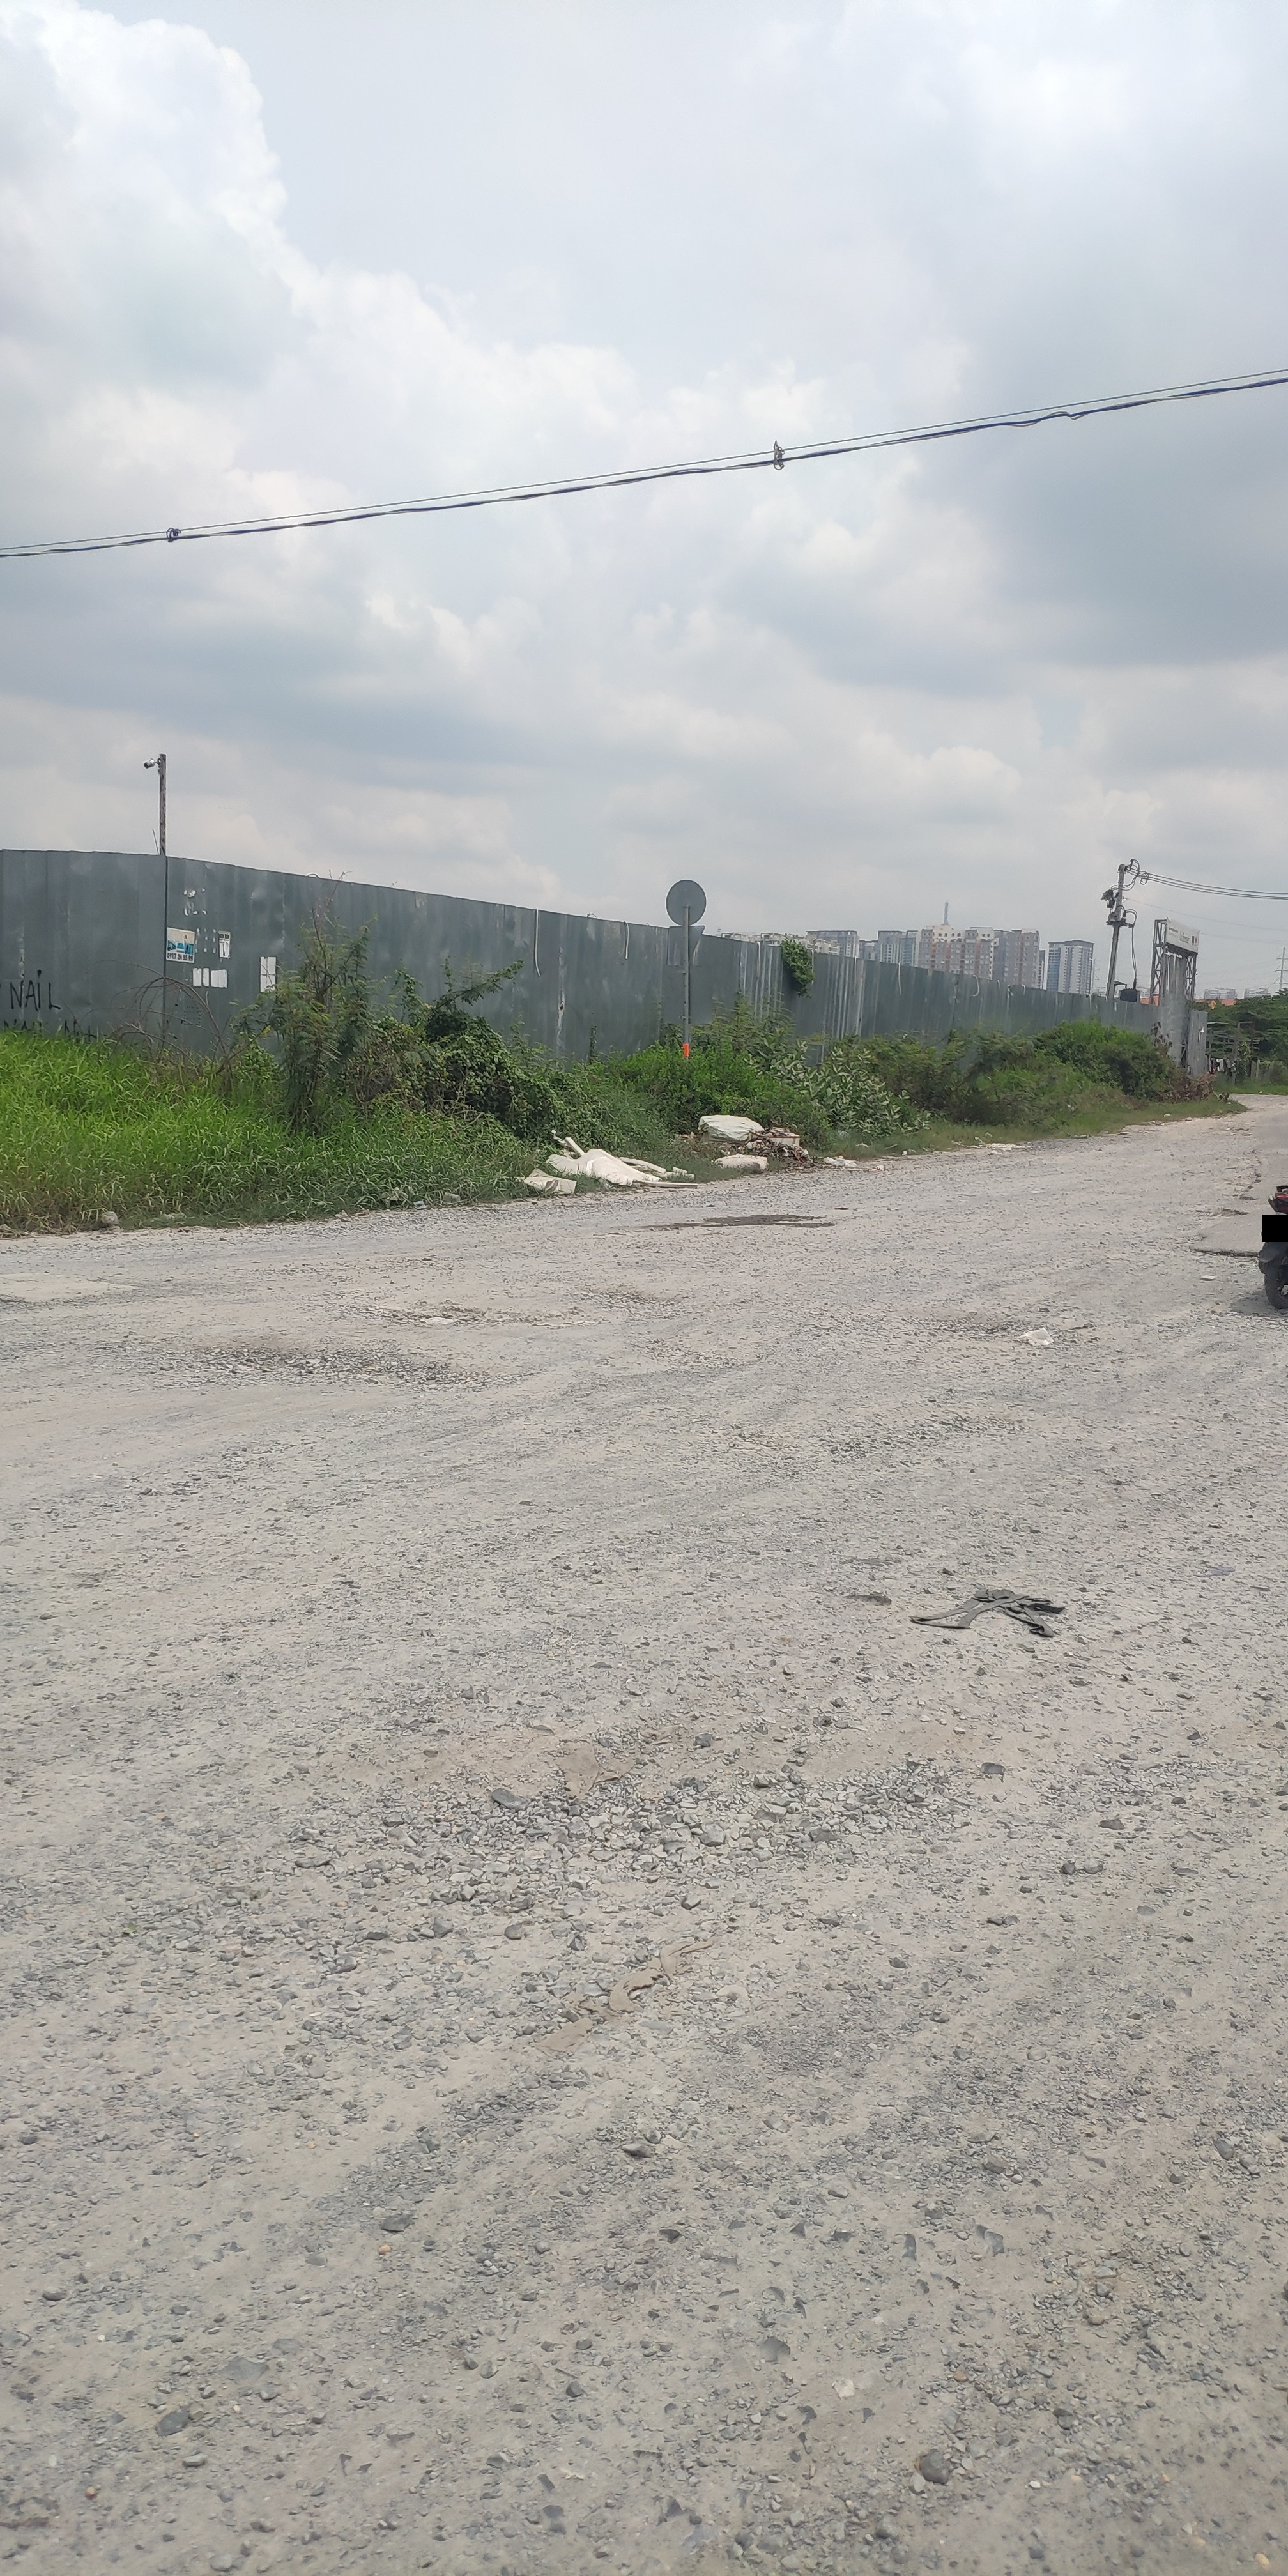hole: (371, 1700, 961, 1932), (138, 1337, 501, 1395), (315, 1288, 582, 1327), (908, 1303, 1074, 1354), (586, 1275, 705, 1324), (1207, 1204, 1253, 1219), (1230, 1193, 1260, 1204)
